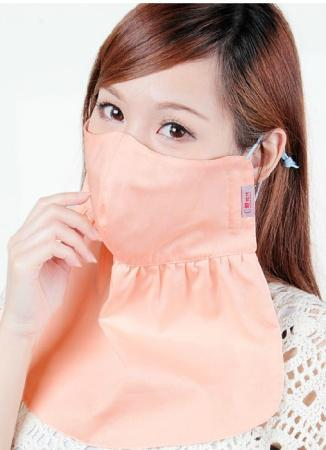OK: (80, 74, 241, 254)
